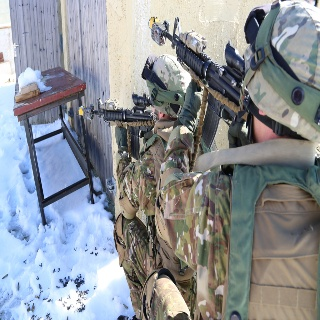rifle: (147, 15, 268, 150), (77, 93, 162, 161)
